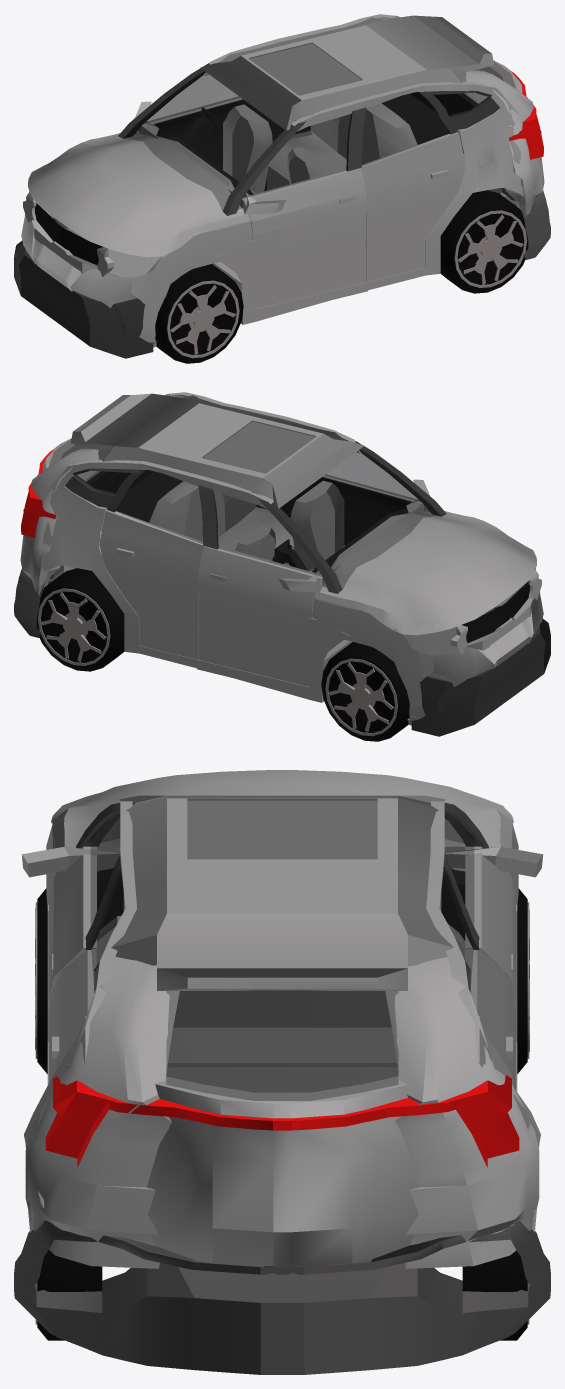
The model's file is seltos.glb.
3 views of the same model, one above another, from view 1: azimuth 30°, elevation 25°; view 2: azimuth 150°, elevation 25°; view 3: azimuth 270°, elevation 25° (orthographic). The views are drawn at different scales.
Visible parts, largest first — view 1: Object_8, Object_9, Object_11, Object_10, Object_6, Object_12, Object_7, Object_3, Object_4, Object_2; view 2: Object_8, Object_9, Object_11, Object_10, Object_6, Object_12, Object_7, Object_3, Object_4, Object_2; view 3: Object_8, Object_7, Object_9, Object_2, Object_10, Object_11, Object_6, Object_12.
Boxes of the visible parts, x1,y1,x2,y2 form: Object_8: [21, 14, 544, 347]; Object_9: [122, 42, 515, 212]; Object_11: [14, 63, 499, 358]; Object_10: [144, 190, 528, 363]; Object_6: [155, 92, 477, 195]; Object_12: [167, 210, 527, 358]; Object_7: [488, 188, 550, 259]; Object_3: [35, 203, 102, 264]; Object_4: [29, 190, 168, 277]; Object_2: [509, 70, 543, 159]; Object_8: [20, 392, 543, 725]; Object_9: [49, 420, 442, 590]; Object_11: [64, 440, 550, 736]; Object_10: [36, 568, 420, 741]; Object_6: [87, 470, 409, 572]; Object_12: [38, 588, 397, 736]; Object_7: [14, 566, 76, 637]; Object_3: [462, 581, 529, 642]; Object_4: [400, 568, 535, 655]; Object_2: [21, 448, 55, 537]; Object_8: [21, 770, 543, 1268]; Object_7: [14, 1220, 550, 1374]; Object_9: [88, 798, 476, 1100]; Object_2: [45, 1075, 519, 1167]; Object_10: [37, 888, 527, 1340]; Object_11: [76, 802, 488, 993]; Object_6: [67, 868, 465, 1067]; Object_12: [35, 902, 529, 1324].
Bounding box in the file's own units: 5.35 × 2.28 × 2.82.
